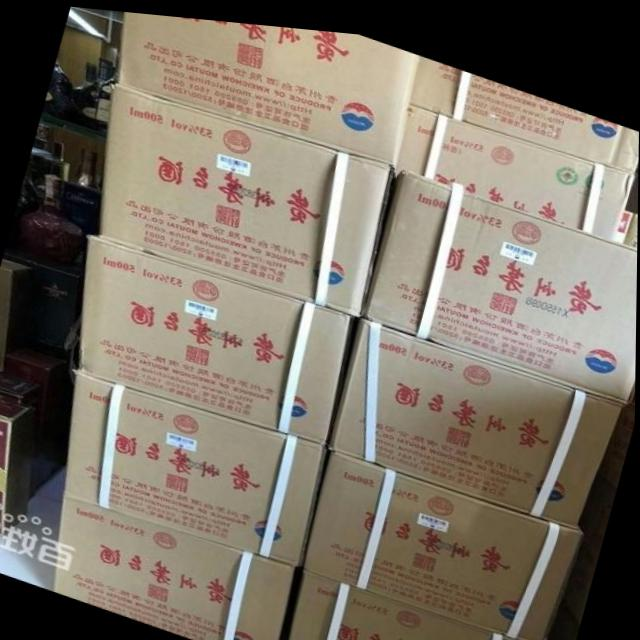box: (99, 79, 401, 311), (366, 165, 638, 390), (331, 311, 624, 516), (81, 234, 364, 440), (301, 440, 585, 635), (66, 370, 327, 562), (119, 9, 417, 158), (55, 495, 298, 640), (393, 93, 634, 230), (407, 45, 639, 162), (283, 561, 540, 640)
